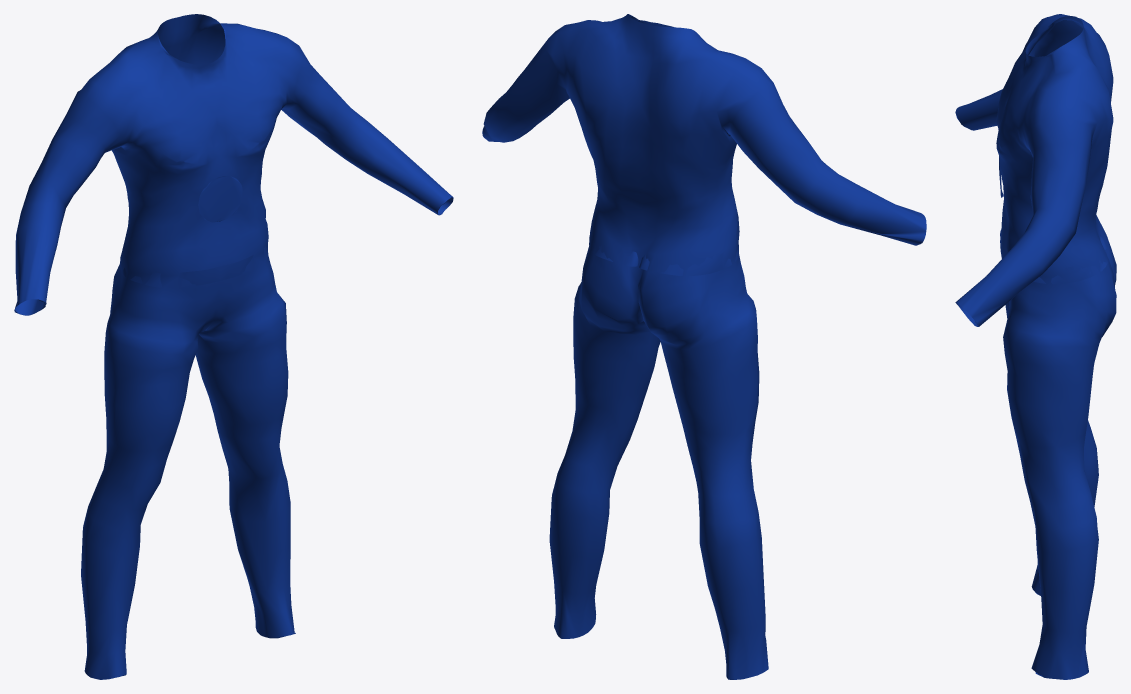
The model's file is bodysuit.glb.
3 renders of one model, left to right at view 1: azimuth 30°, elevation 25°; view 2: azimuth 150°, elevation 25°; view 3: azimuth 270°, elevation 25°, orthographic. The views are drawn at different scales.
Parts seen in each view (by area): view 1: bodysuit; view 2: bodysuit; view 3: bodysuit.
Boxes of the visible parts, x1,y1,x2,y2 form: bodysuit: (14,14,453,679); bodysuit: (482,14,926,679); bodysuit: (955,14,1116,679).
Bounding box in the file's own units: 1.07 × 1.46 × 0.3511.
